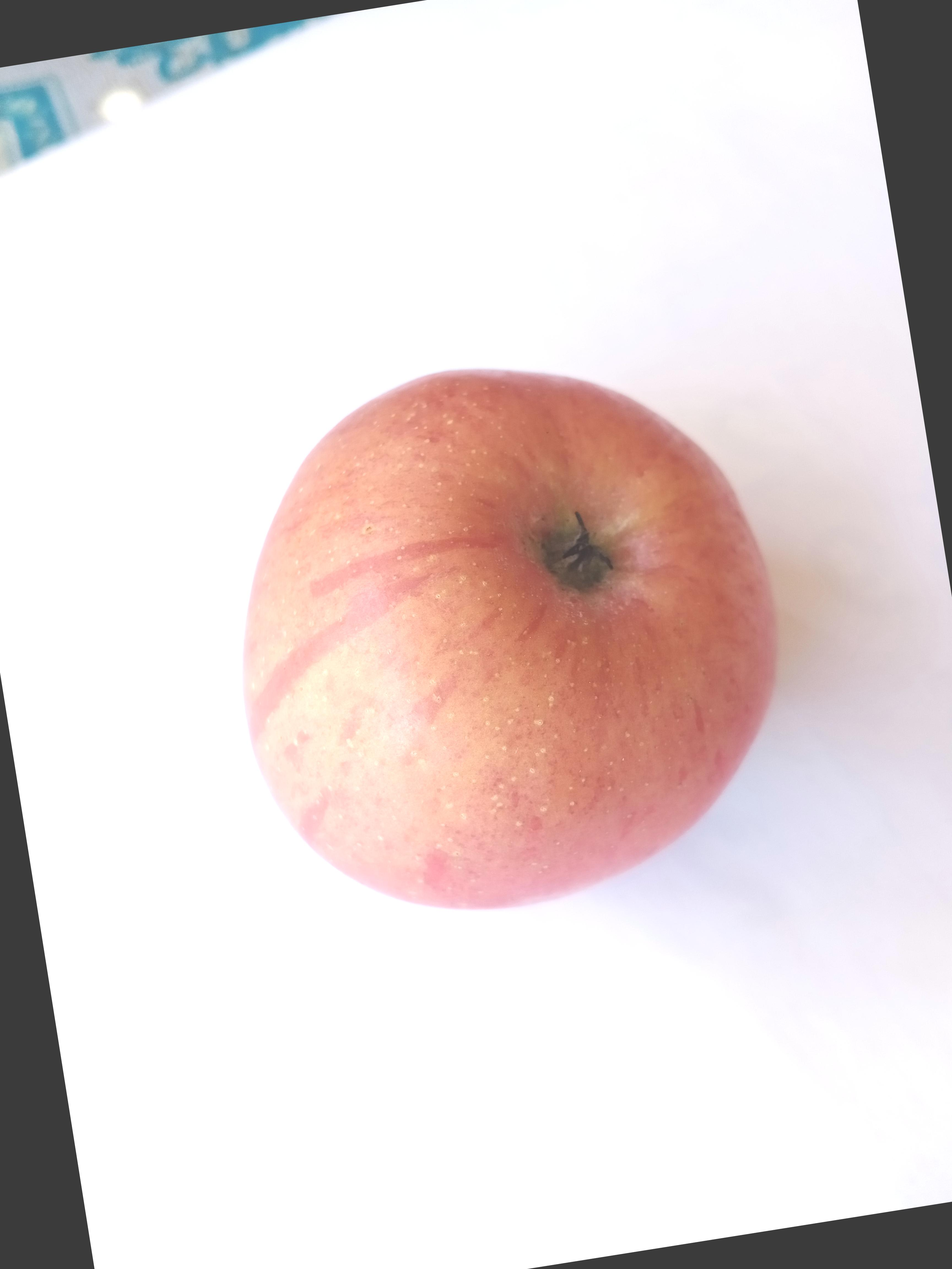Apple Ripe: (51, 399, 735, 1090)
